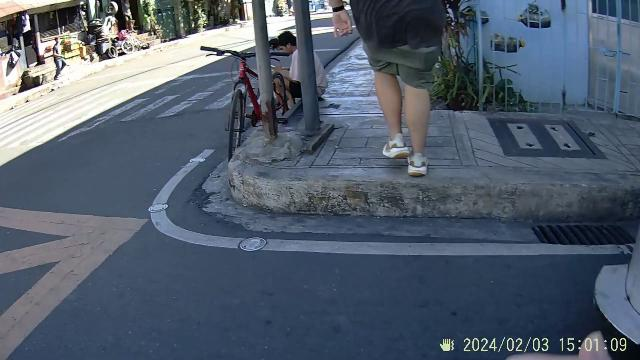utility_post: (246, 0, 288, 156), (290, 1, 334, 144)
